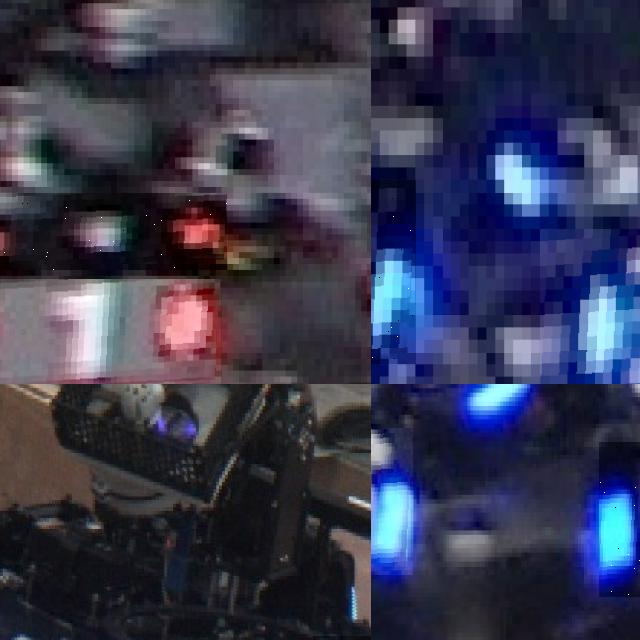B3: (539, 228, 640, 384), (371, 179, 415, 364)
B5: (598, 441, 640, 597), (371, 428, 413, 574)
R1: (0, 278, 221, 384), (0, 193, 227, 270)
